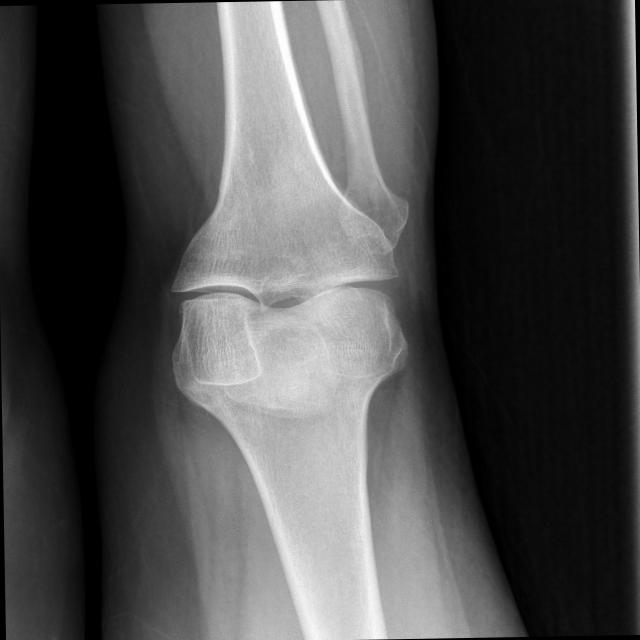Knee: (168, 218, 412, 400)
